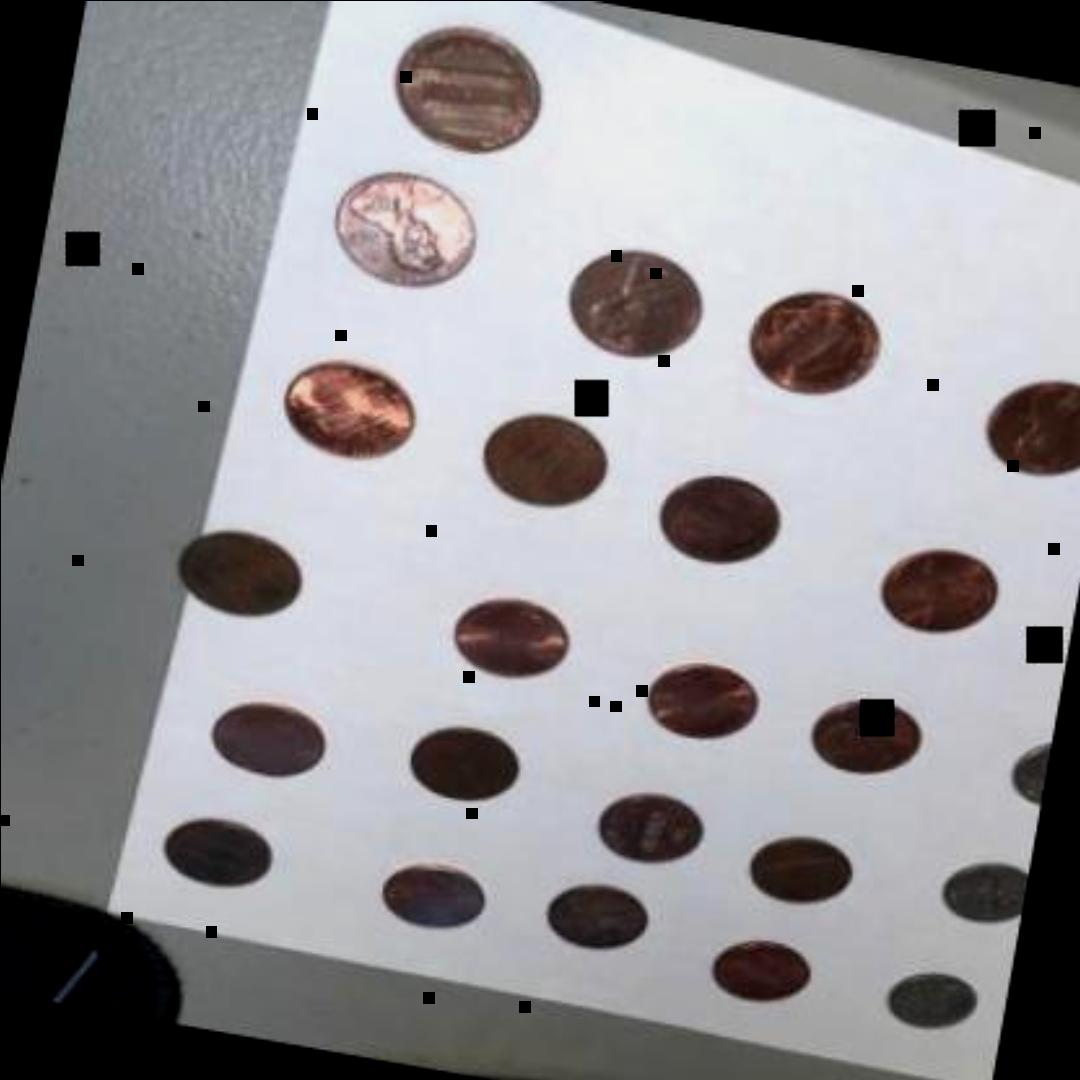Nickel: (870, 962, 988, 1042), (930, 848, 1032, 936), (1003, 738, 1052, 812)
Penny: (376, 19, 556, 174), (316, 168, 484, 304), (557, 244, 710, 374), (272, 352, 426, 476), (738, 284, 888, 410), (461, 408, 611, 532), (166, 523, 320, 637), (651, 470, 793, 582), (443, 586, 585, 697), (868, 538, 1010, 647), (192, 690, 338, 792), (392, 719, 530, 820), (968, 374, 1080, 494), (632, 654, 764, 755), (366, 848, 502, 944), (802, 694, 929, 790), (536, 872, 664, 964), (160, 808, 284, 901), (708, 930, 822, 1018), (587, 786, 696, 872), (746, 832, 857, 916)
